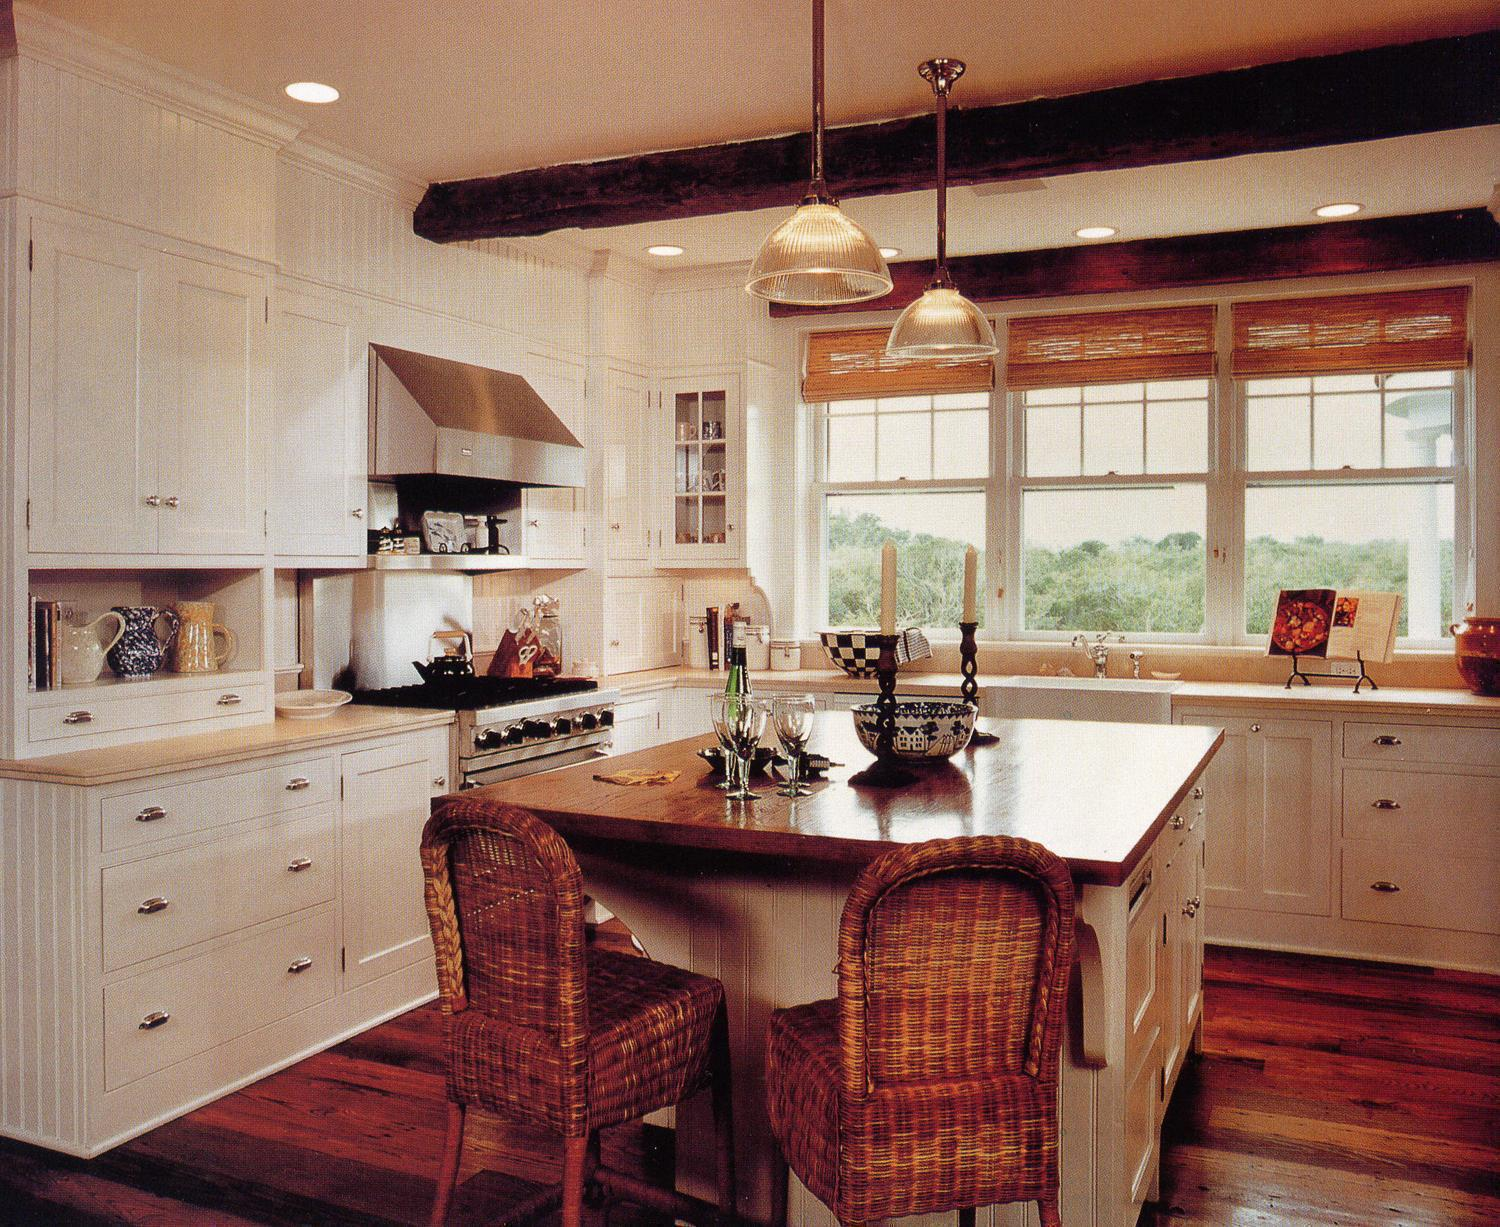Ventana: (809, 362, 1465, 642)
